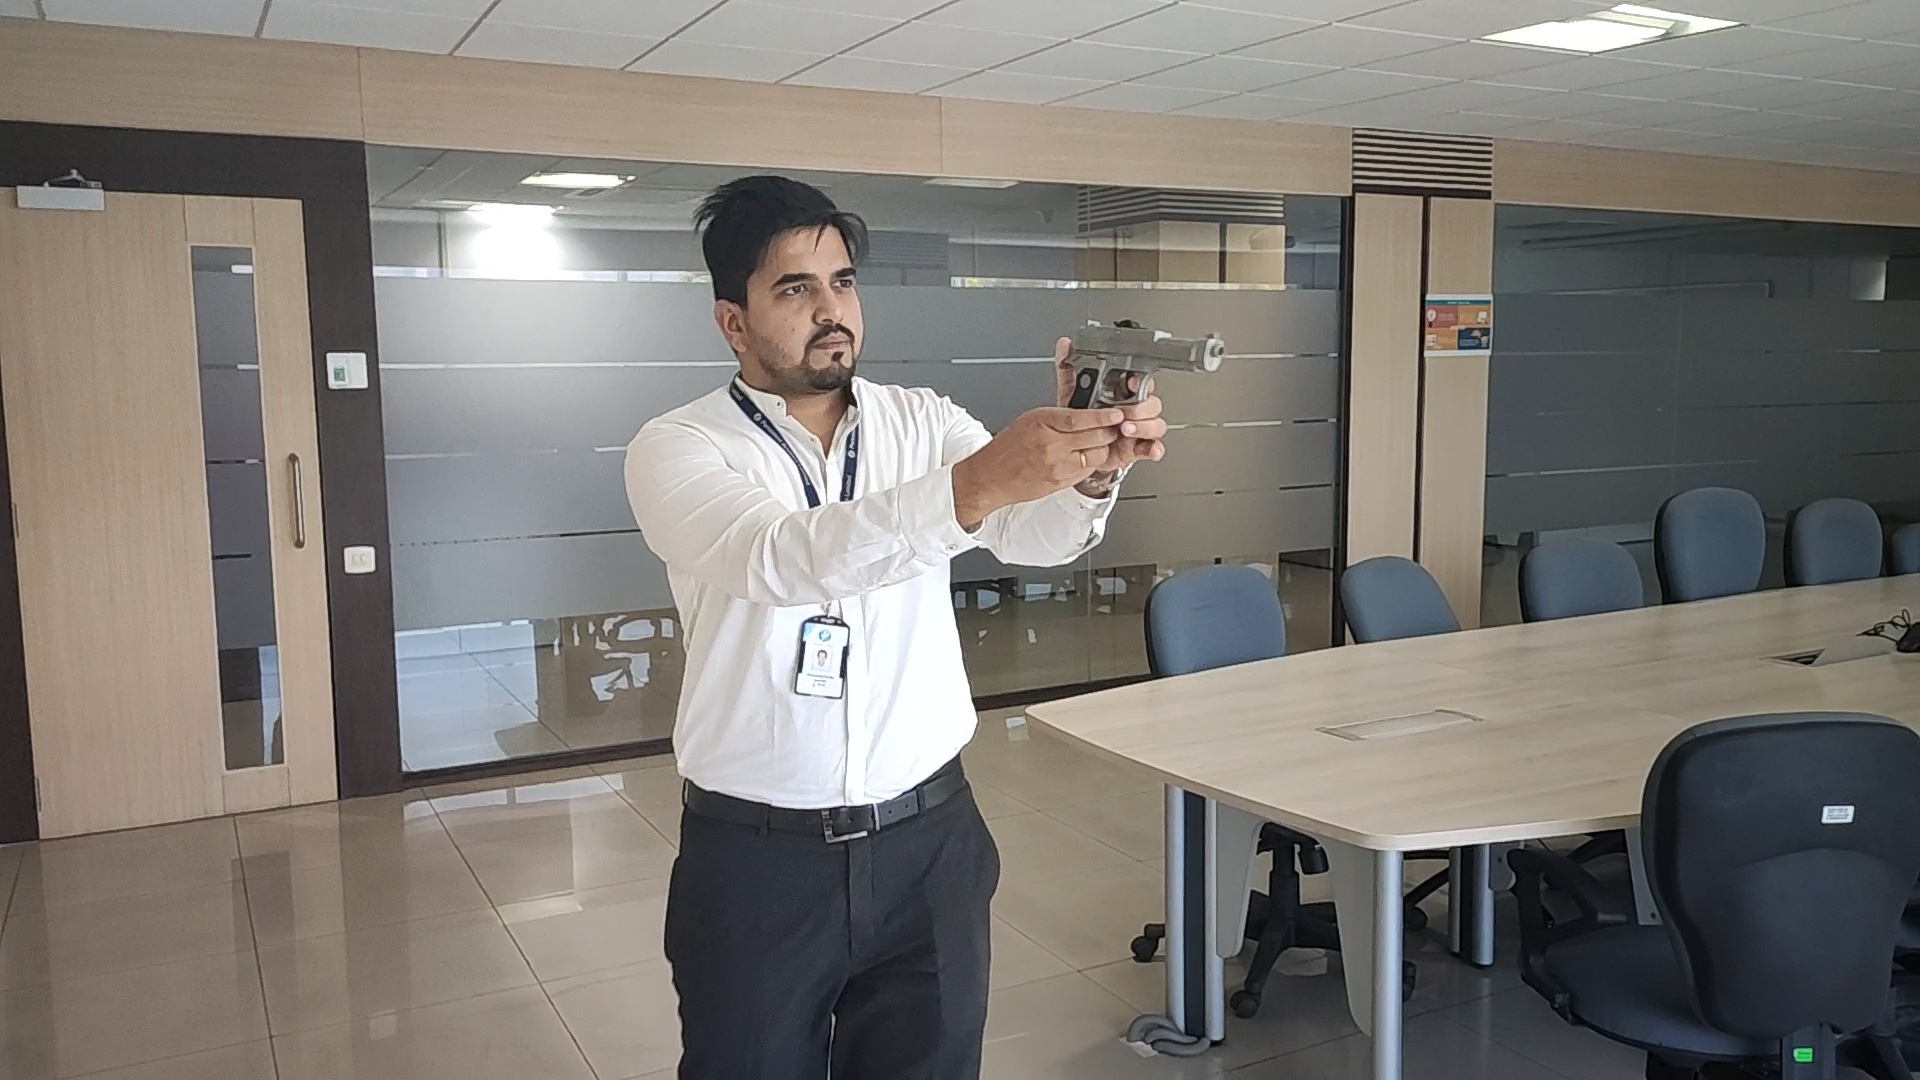gun: (1063, 319, 1222, 411)
